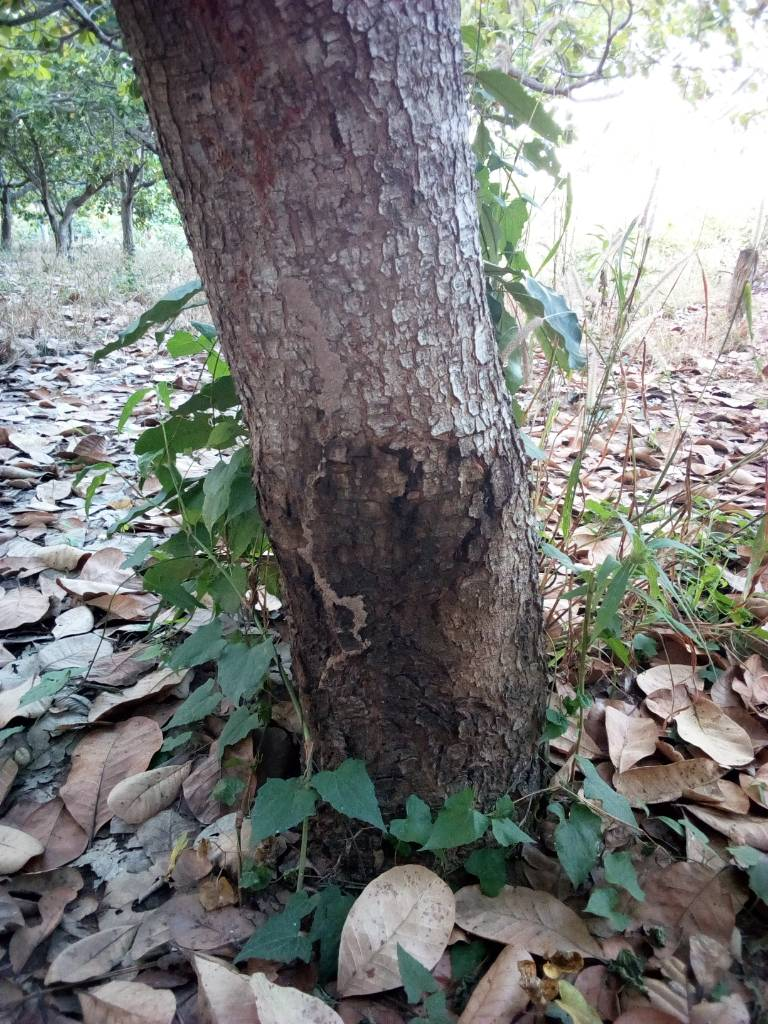Termites: (297, 458, 374, 685)
